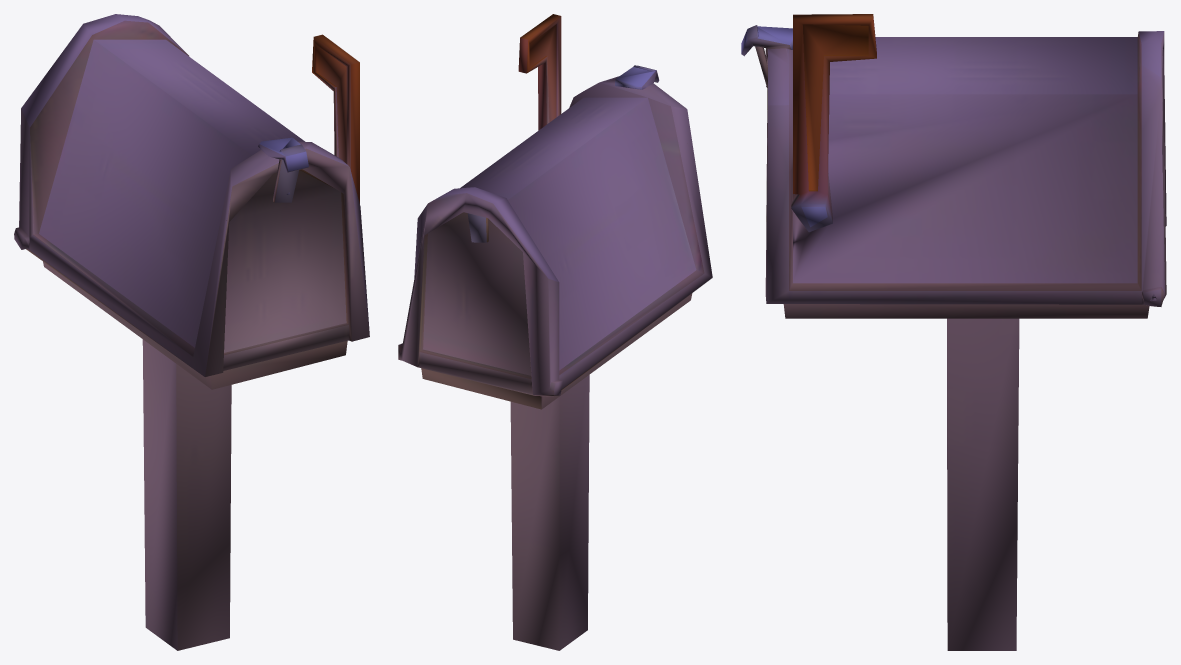
The model's file is model.progressive.glb.
The picture shows the model from 3 angles, left to right: view 1: azimuth 30°, elevation 25°; view 2: azimuth 150°, elevation 25°; view 3: azimuth 270°, elevation 25°; orthographic projection. The views are drawn at different scales.
Visible parts, largest first — view 1: material; view 2: material; view 3: material.
Part boxes in pixels (x1,y1,x2,y2): material: (14,14,369,650); material: (398,14,712,650); material: (741,14,1166,650).
Bounding box in the file's own units: 0.5741 × 1.88 × 1.1.
Materials: 1 (1 with a texture image).
